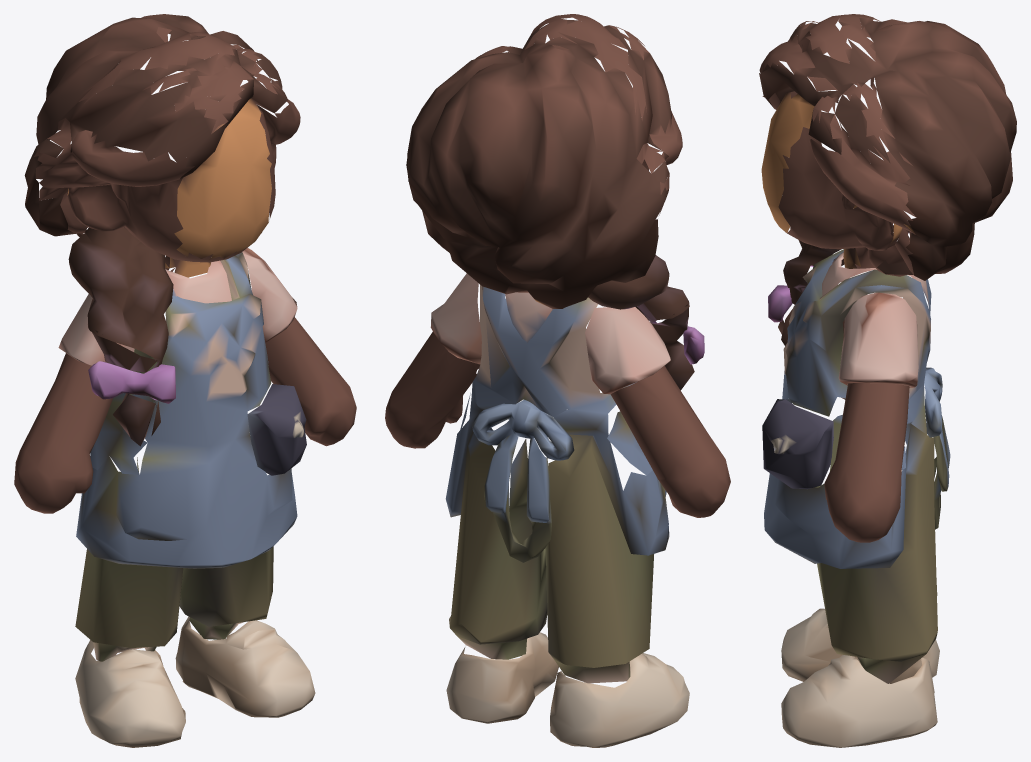
3 views of the same model, side by side, from view 1: azimuth 30°, elevation 25°; view 2: azimuth 150°, elevation 25°; view 3: azimuth 270°, elevation 25° (orthographic).
Visible parts, largest first — view 1: bottom, hair, head, top, shoe_l, hand_r, sleeve_r, shoe_r, sleeve_l, hand_l; view 2: hair, bottom, top, hand_r, shoe_r, sleeve_r, shoe_l, hand_l, head, sleeve_l; view 3: hair, bottom, head, sleeve_l, shoe_l, hand_l, top, shoe_r, sleeve_r.
Part boxes in pixels (<box>): bottom: <box>75,252,297,661</box>; hair: <box>24,14,287,277</box>; head: <box>34,27,300,271</box>; top: <box>68,227,231,471</box>; shoe_l: <box>175,616,315,717</box>; hand_r: <box>14,353,113,513</box>; sleeve_r: <box>58,294,175,474</box>; shoe_r: <box>75,640,185,747</box>; sleeve_l: <box>242,248,306,475</box>; hand_l: <box>265,317,356,446</box>; hair: <box>406,20,671,308</box>; bottom: <box>445,284,669,683</box>; top: <box>472,255,689,562</box>; hand_r: <box>610,366,730,517</box>; shoe_r: <box>550,653,689,747</box>; sleeve_r: <box>585,304,704,475</box>; shoe_l: <box>446,632,558,723</box>; hand_l: <box>385,332,480,448</box>; head: <box>475,14,682,216</box>; sleeve_l: <box>430,273,481,433</box>; hair: <box>759,18,1016,280</box>; bottom: <box>764,249,937,683</box>; head: <box>759,14,915,276</box>; sleeve_l: <box>762,292,918,489</box>; shoe_l: <box>781,655,937,747</box>; hand_l: <box>824,383,909,542</box>; top: <box>781,229,950,529</box>; shoe_r: <box>781,608,939,683</box>; sleeve_r: <box>768,265,813,334</box>.
Bounding box in the file's own units: 0.5308 × 1.03 × 0.3564.
